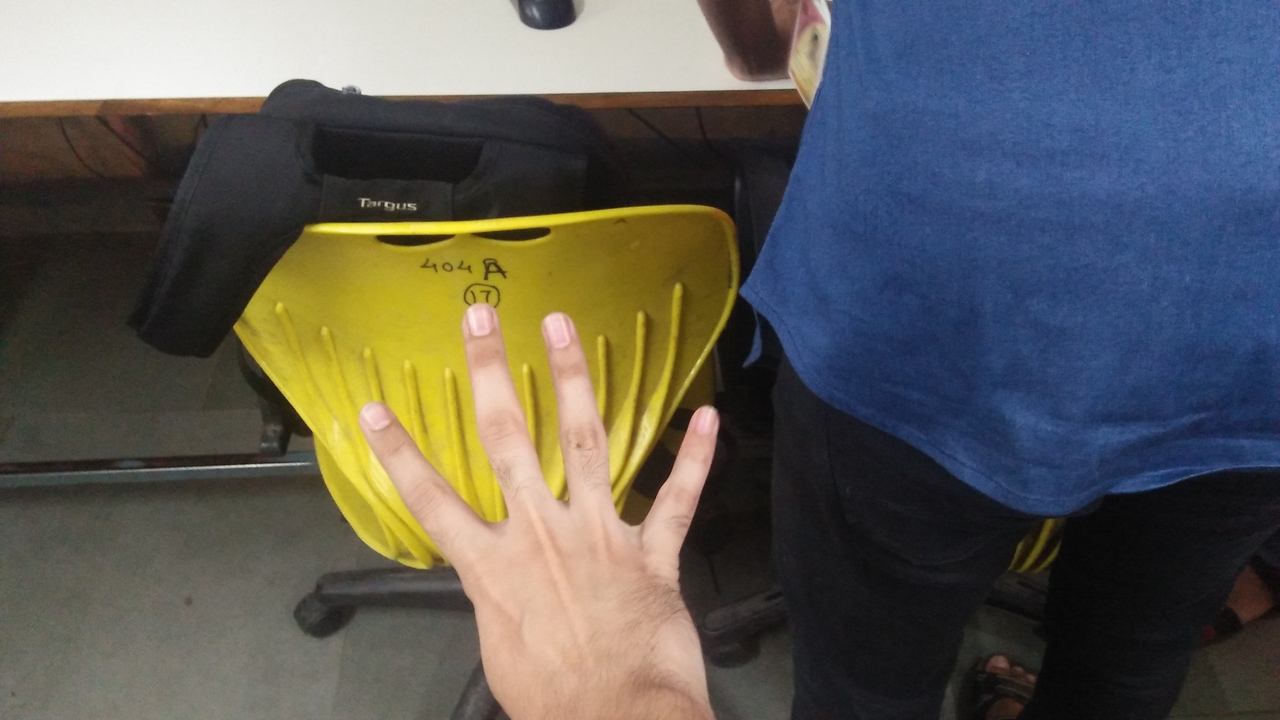fingertip: (340, 394, 414, 452), (528, 304, 588, 362), (448, 298, 508, 350), (672, 400, 726, 454)
